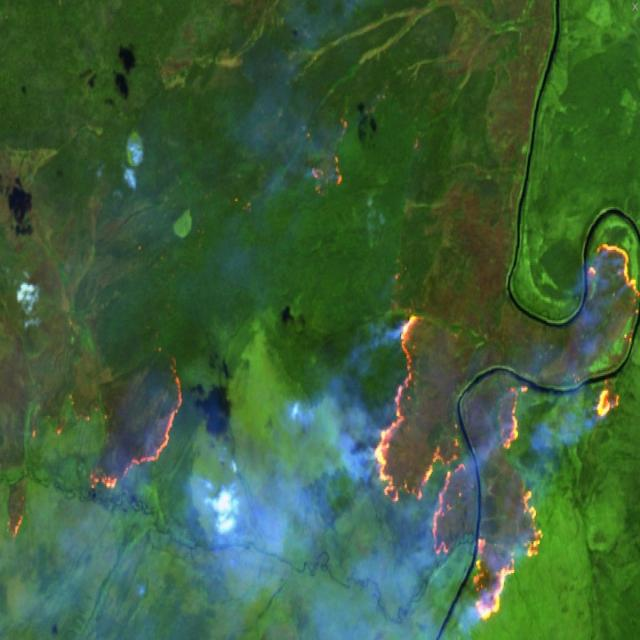fire: (373, 238, 640, 624), (89, 352, 186, 493)
